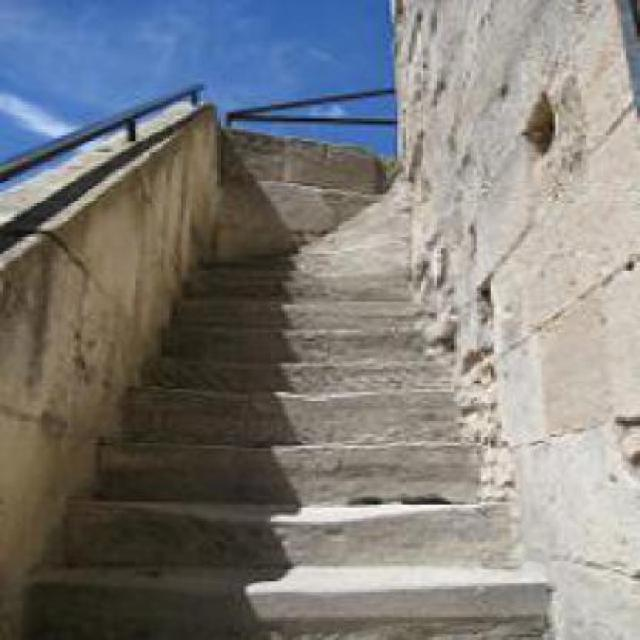stair: (80, 240, 503, 623)
